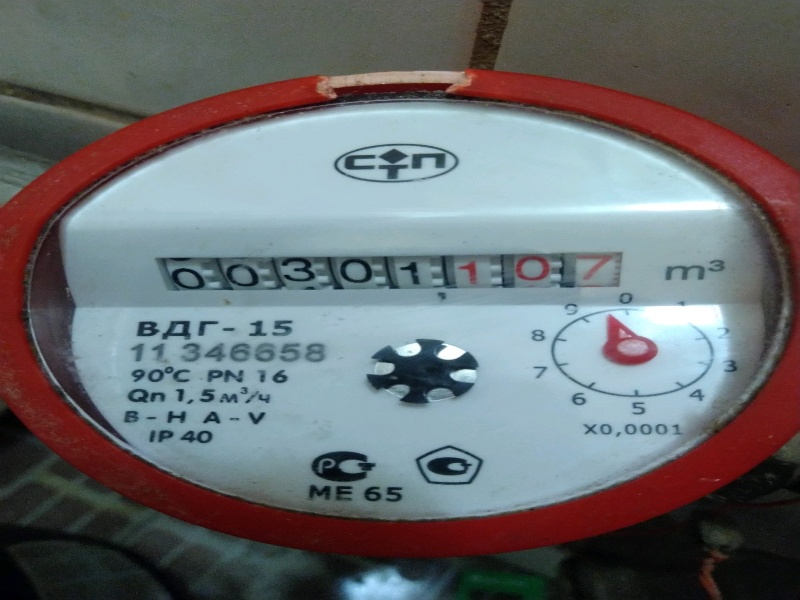meter: (140, 240, 631, 301)
